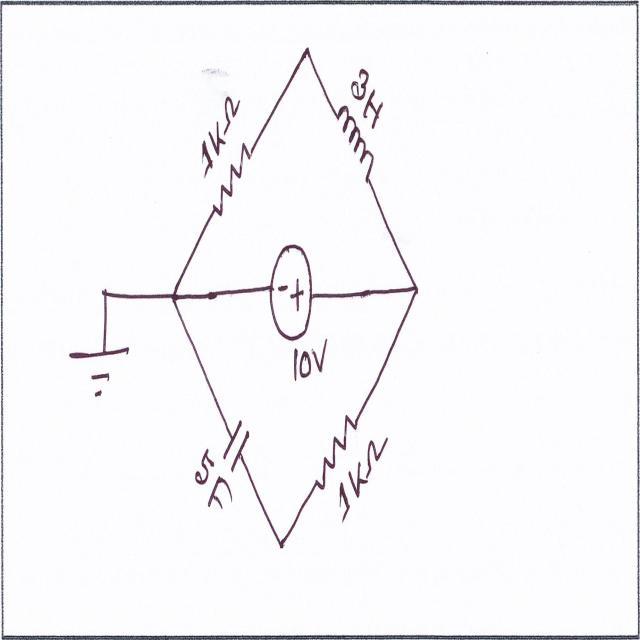capacitor: (223, 420, 250, 474)
ground: (65, 344, 134, 404)
inductor: (333, 105, 373, 190)
resistor: (211, 140, 254, 236), (316, 408, 358, 496)
voltage_source: (266, 235, 315, 344)
